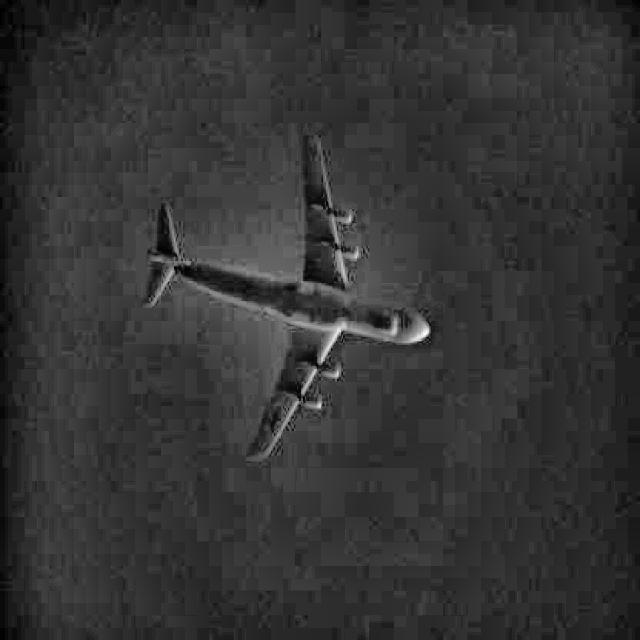C5: (142, 128, 430, 460)
